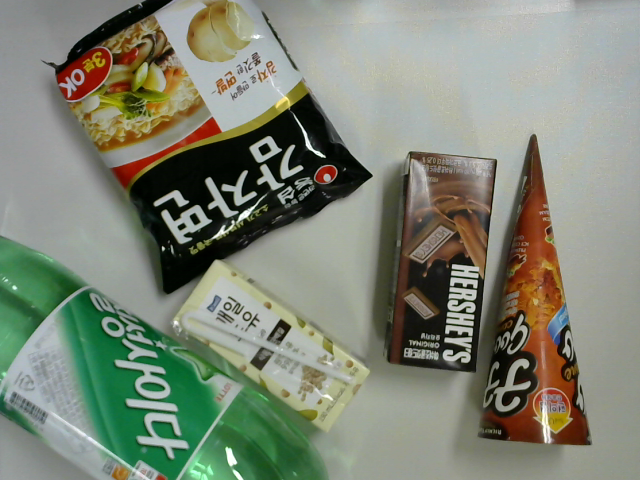99.89_Soymilk: (163, 250, 381, 439)
Chilseong_Cider_1.5L: (1, 220, 357, 480)
GooGoo_Cone_CVS: (474, 128, 600, 459)
Hush_Choco_Drink: (379, 141, 504, 381)
Potato: (37, 1, 378, 298)
